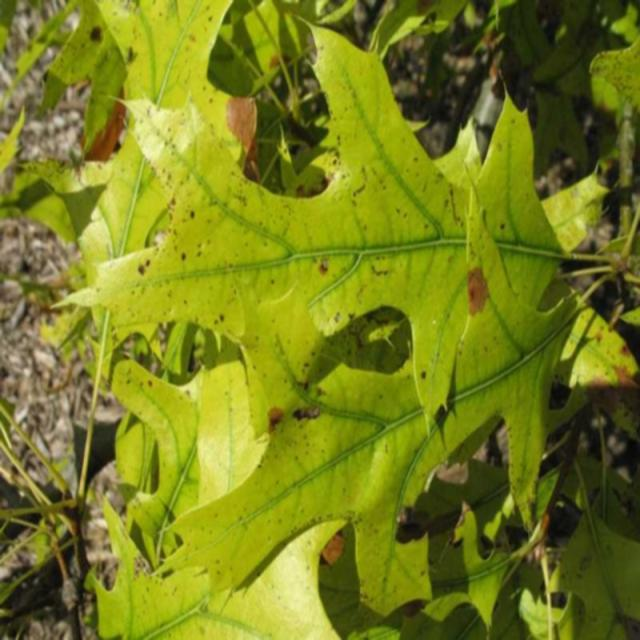Chlorosis: (50, 14, 537, 636)
